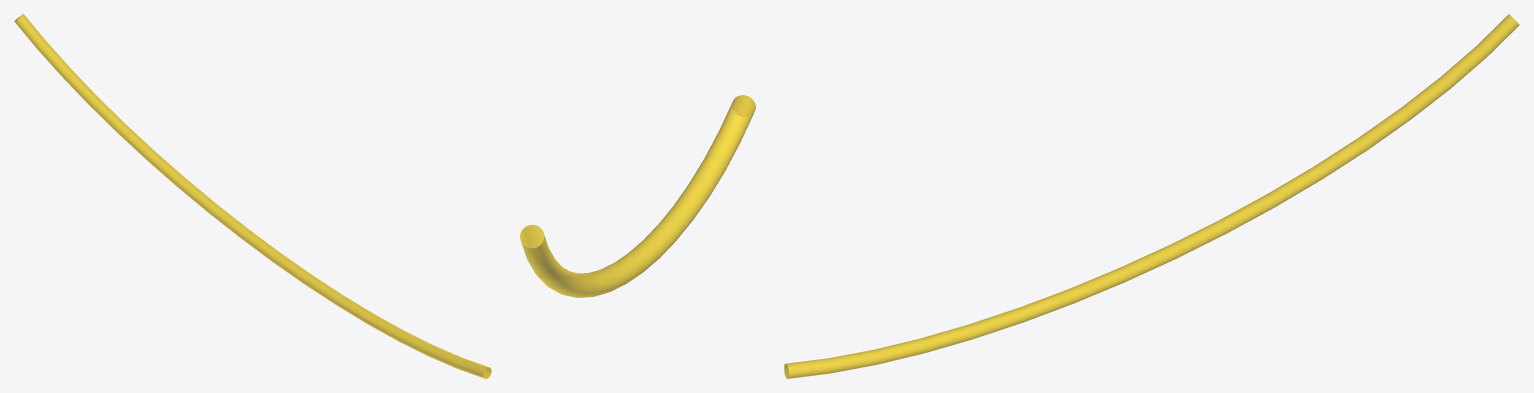
File: Event_84804159_track_49.fbx
The picture shows the model from 3 angles, left to right: view 1: azimuth 30°, elevation 25°; view 2: azimuth 150°, elevation 25°; view 3: azimuth 270°, elevation 25°; orthographic projection. The views are drawn at different scales.
Visible parts, largest first — view 1: Model; view 2: Model; view 3: Model.
Boxes of the visible parts, left/top/right/bottom form: Model: left=14, top=14, right=491, bottom=378; Model: left=520, top=95, right=755, bottom=297; Model: left=784, top=14, right=1519, bottom=378.
Bounding box in the file's own units: 0.7232 × 0.7209 × 1.9.
